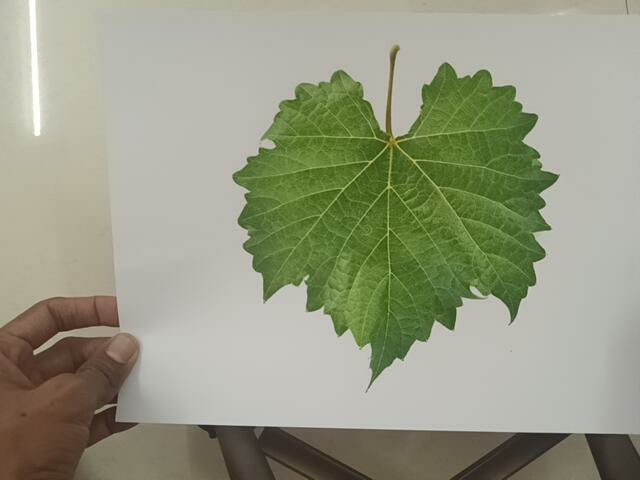Grape_Healthy: (230, 41, 565, 389)
